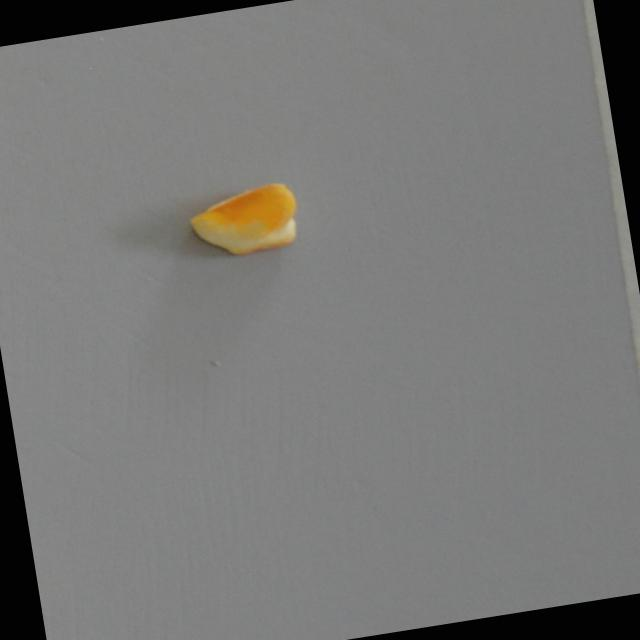pelicula: (178, 147, 311, 280)
